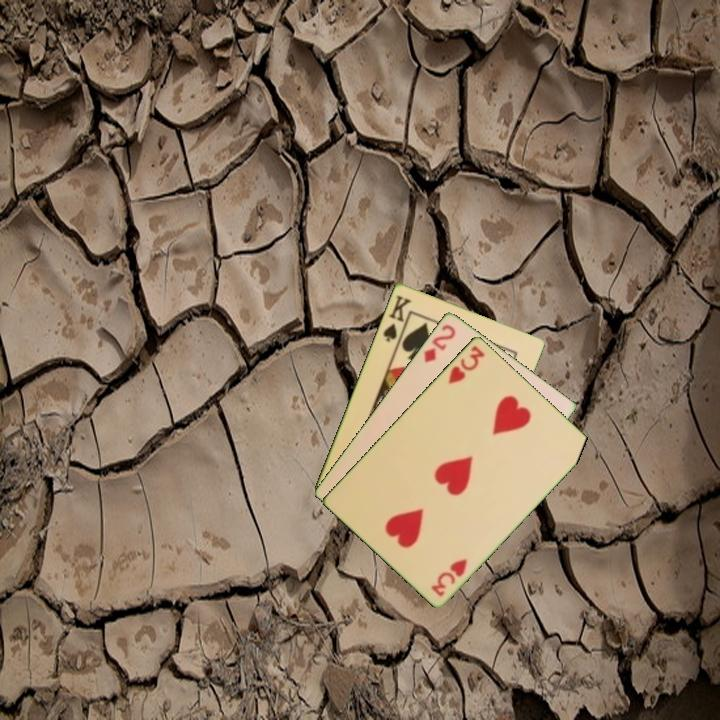2d: (420, 320, 458, 365)
3h: (445, 342, 488, 387), (428, 554, 470, 599)
Ks: (379, 291, 414, 347)
